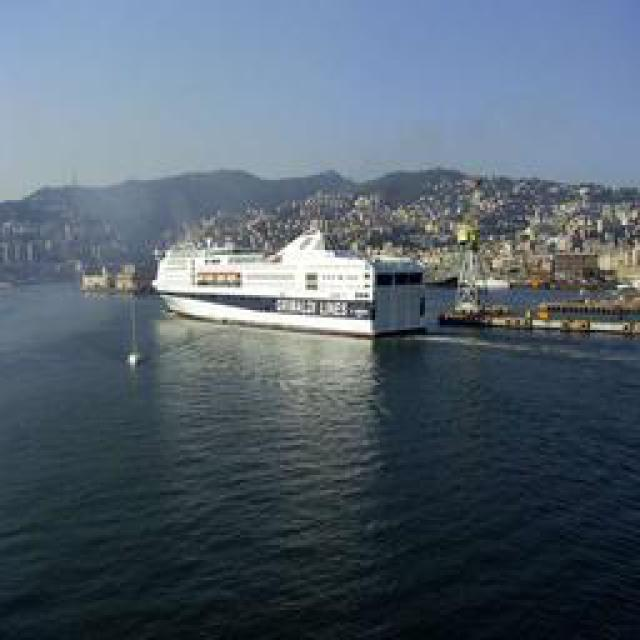Ship: (155, 227, 460, 340)
